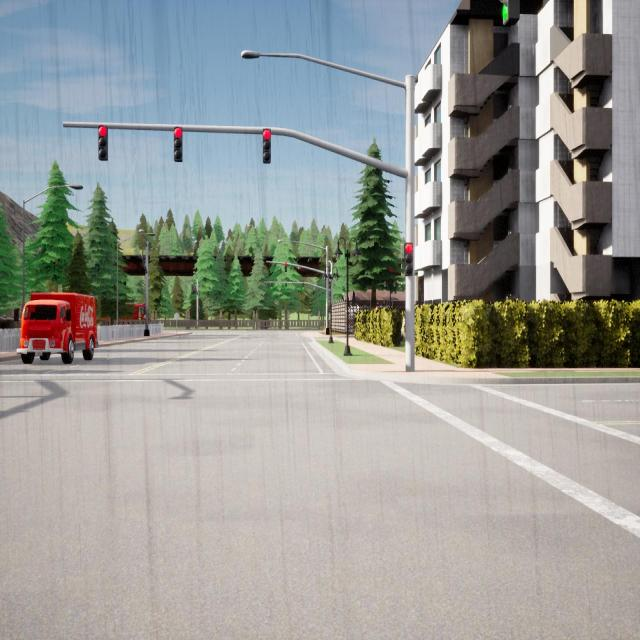Traffic_Signs: (174, 312, 180, 320)
Vehicle: (17, 293, 97, 363), (118, 302, 151, 324)
traffic_light: (500, 0, 520, 26), (98, 125, 108, 161), (404, 243, 413, 276), (174, 127, 182, 162), (263, 129, 271, 163), (284, 262, 288, 274), (270, 282, 273, 290), (285, 282, 287, 290), (192, 285, 194, 293), (302, 282, 304, 289), (198, 306, 200, 312), (194, 287, 196, 293)
